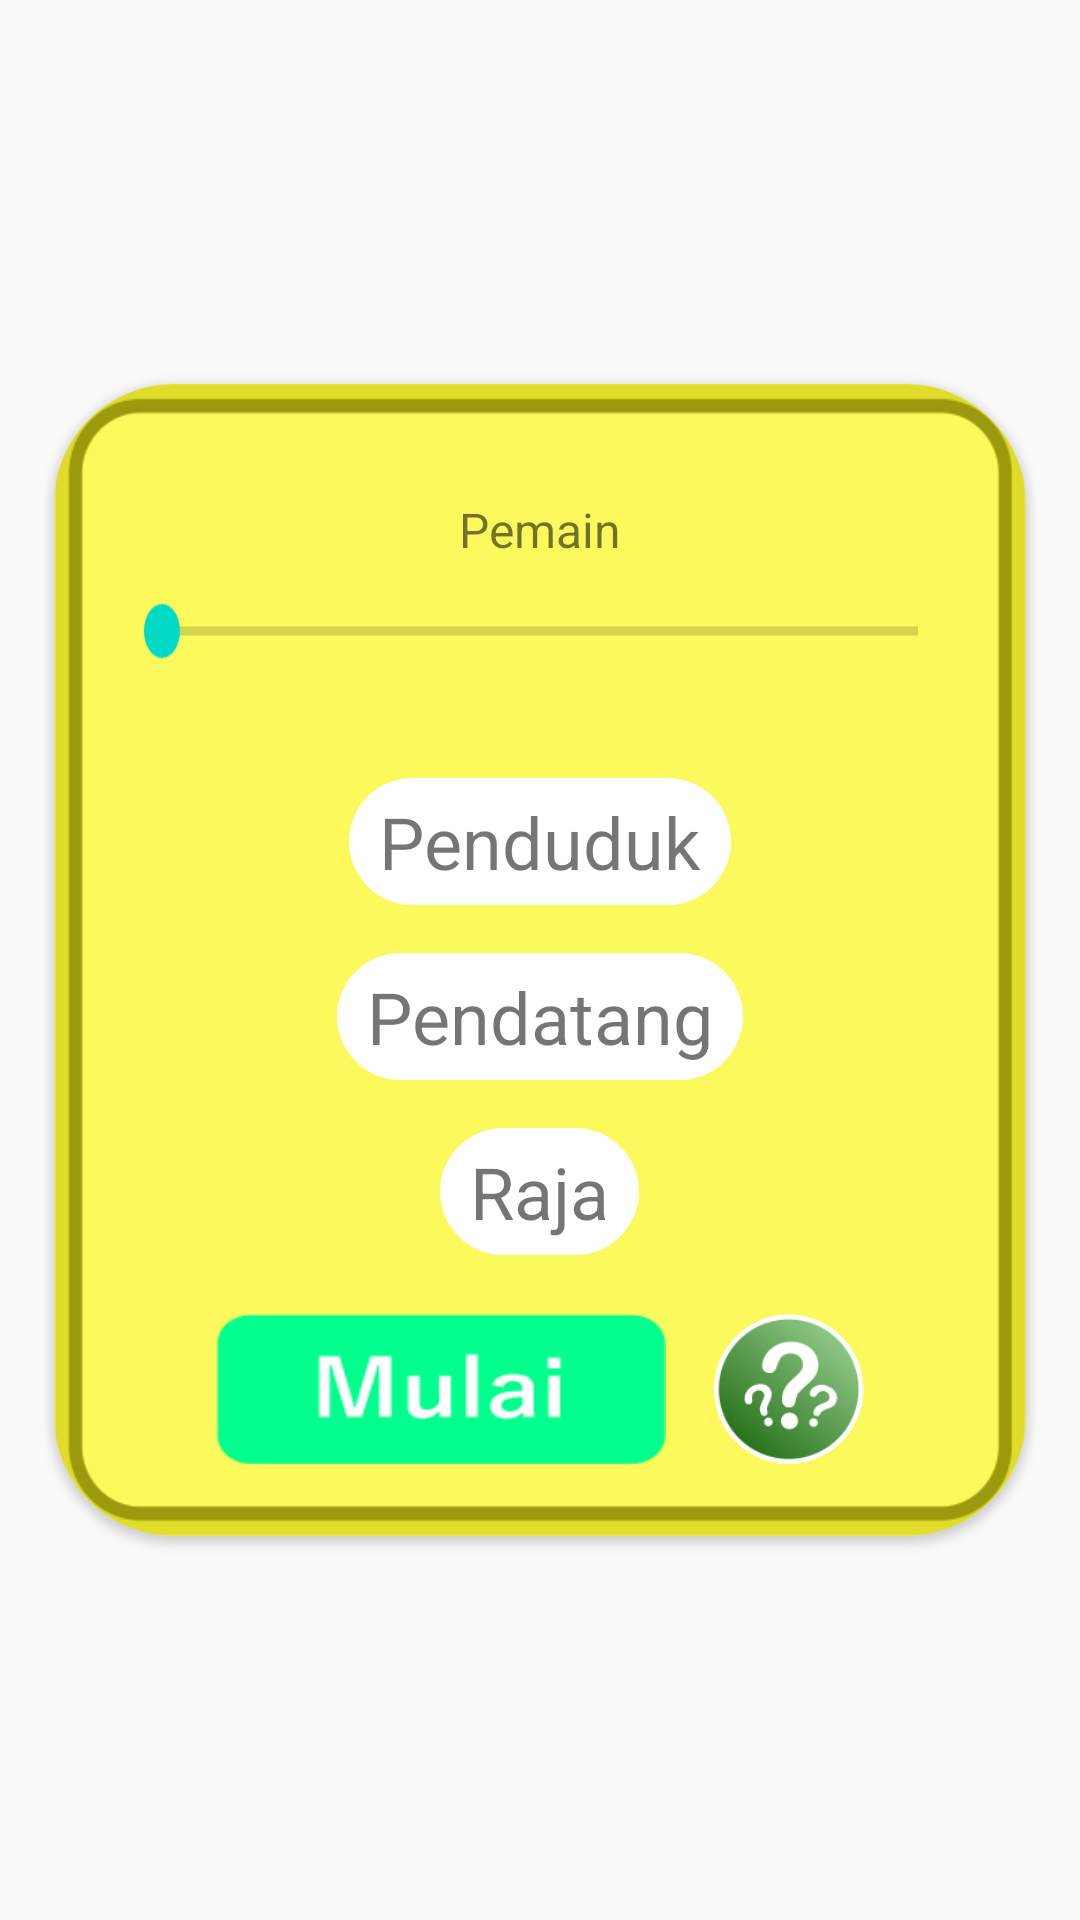

Screen size 1080w x 1920h. Icon name, then its box in pixels as (x1, y1, x2, y2):
aturan: (714, 1314, 864, 1464)
